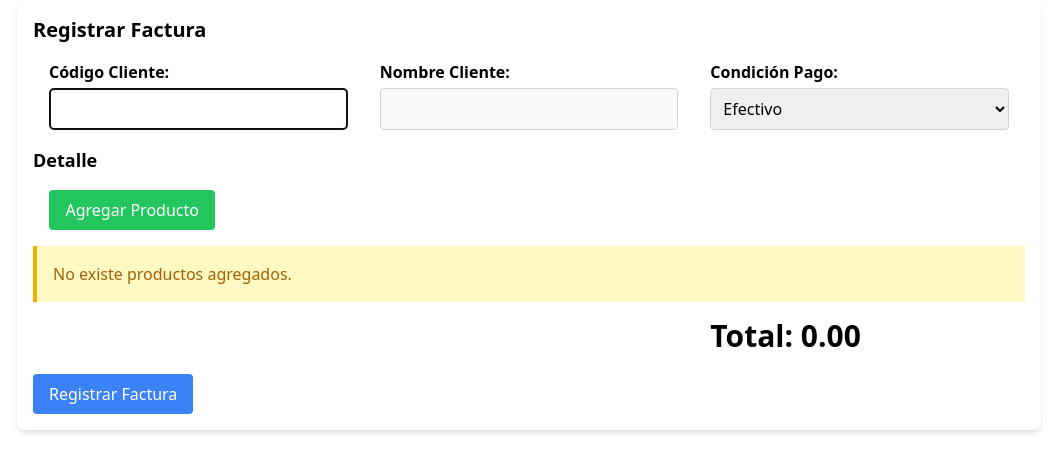
Test case: App test Register Invoice › shows an error if the code and name client is required
Click the button "Registrar Factura": {"x": 113, "y": 394} [33,374,193,414]
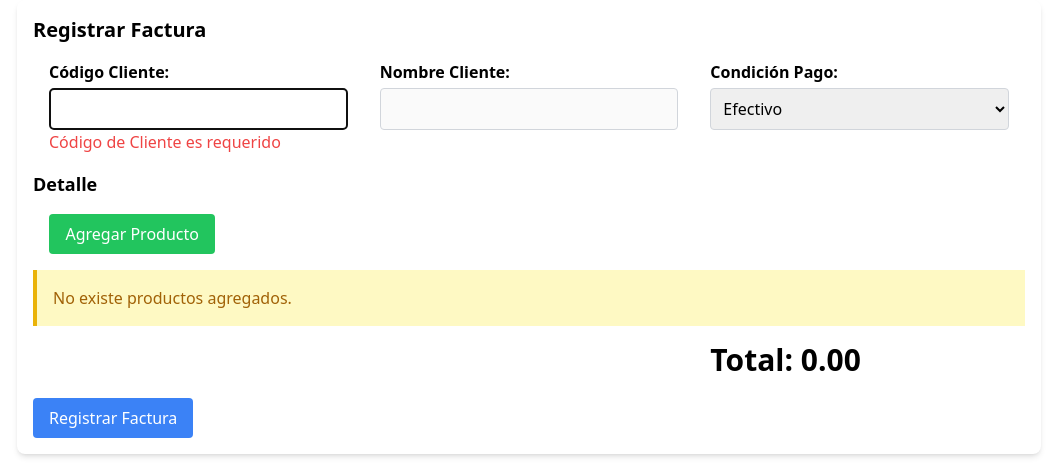
Now the text "Código de Cliente es requerido" is shown, box [49,131,281,153]
